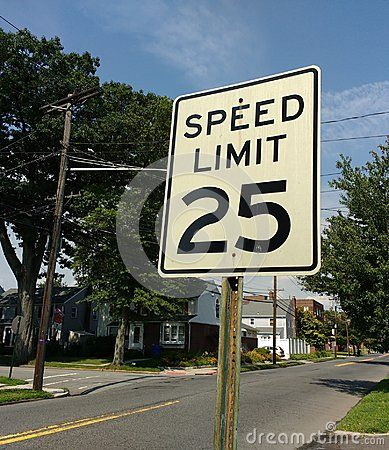speed limit: (152, 61, 341, 288)
